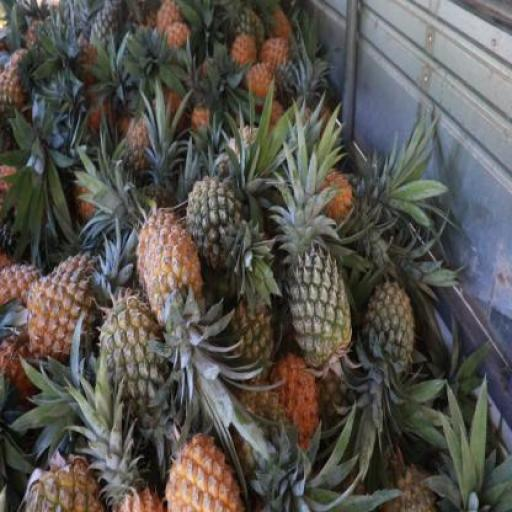------------------------------: (97, 297, 169, 406), (185, 174, 249, 273), (22, 443, 95, 512), (0, 67, 28, 126)
Pineapple - v8 v1: (28, 264, 98, 365), (164, 428, 241, 511), (146, 228, 206, 330), (136, 212, 184, 299), (0, 260, 43, 324), (246, 63, 281, 103), (260, 39, 288, 82), (232, 34, 258, 76)
